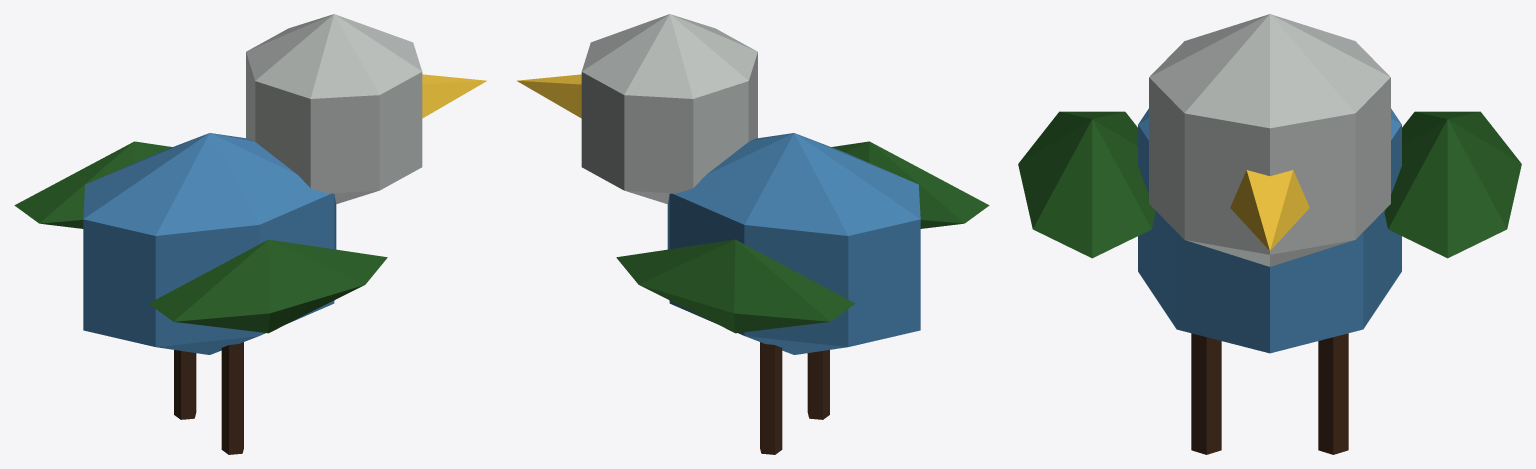
File: bird.obj
3 renders of one model, left to right at view 1: azimuth 30°, elevation 25°; view 2: azimuth 150°, elevation 25°; view 3: azimuth 270°, elevation 25°, orthographic. The views are drawn at different scales.
Bounding box in the file's own units: 0.9748 × 0.895 × 0.794.
Materials: 5 (5 with a texture image).
